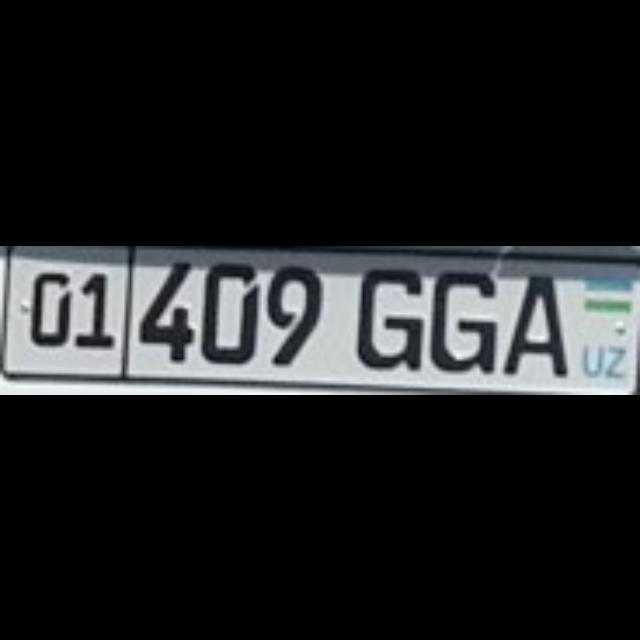0: (195, 256, 251, 356), (24, 266, 66, 342)
1: (73, 270, 111, 346)
4: (135, 258, 191, 359)
9: (261, 258, 317, 359)
A: (497, 270, 563, 370)
G: (424, 266, 490, 370), (351, 262, 417, 364)
